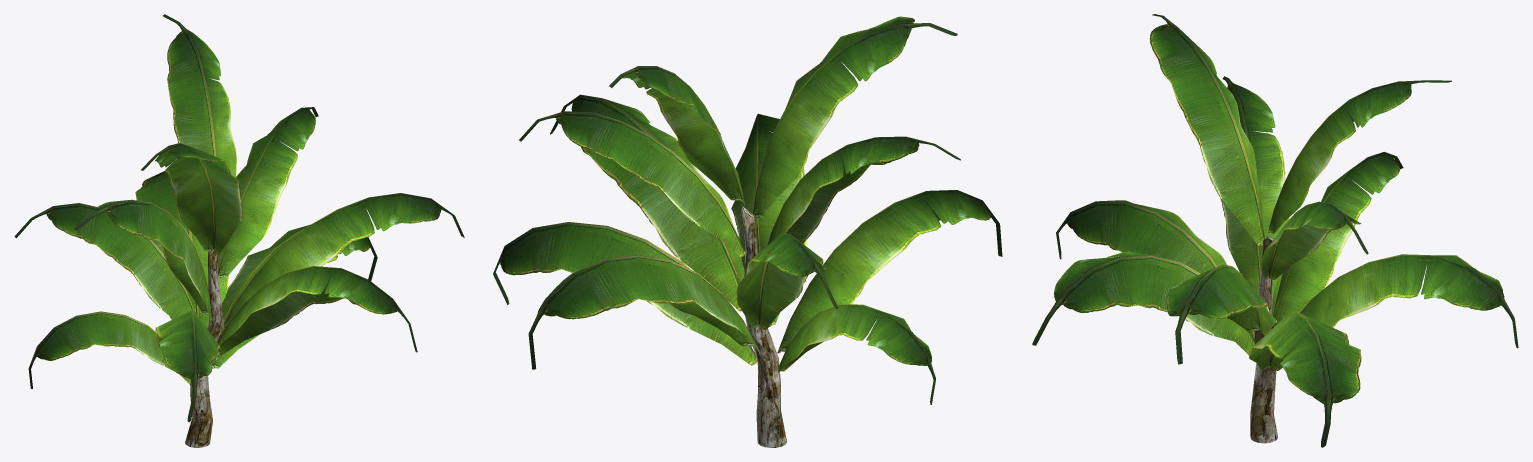
File: Planta_cultivo.fbx
3 renders of one model, left to right at view 1: azimuth 30°, elevation 25°; view 2: azimuth 150°, elevation 25°; view 3: azimuth 270°, elevation 25°, orthographic. The views are drawn at different scales.
Parts seen in each view (by area): view 1: bananaPlant_01_LOD0:Mesh1, bananaPlant_01_LOD0:Mesh; view 2: bananaPlant_01_LOD0:Mesh1, bananaPlant_01_LOD0:Mesh; view 3: bananaPlant_01_LOD0:Mesh1, bananaPlant_01_LOD0:Mesh.
Part boxes in pixels (bbox=[...]): bananaPlant_01_LOD0:Mesh1: bbox=[14, 14, 464, 422]; bananaPlant_01_LOD0:Mesh: bbox=[185, 249, 224, 447]; bananaPlant_01_LOD0:Mesh1: bbox=[493, 16, 1002, 404]; bananaPlant_01_LOD0:Mesh: bbox=[740, 206, 786, 447]; bananaPlant_01_LOD0:Mesh1: bbox=[1032, 14, 1518, 447]; bananaPlant_01_LOD0:Mesh: bbox=[1250, 236, 1277, 443].
Bounding box in the file's own units: 43.03 × 38.07 × 43.44.
2 materials, 2 textured.
